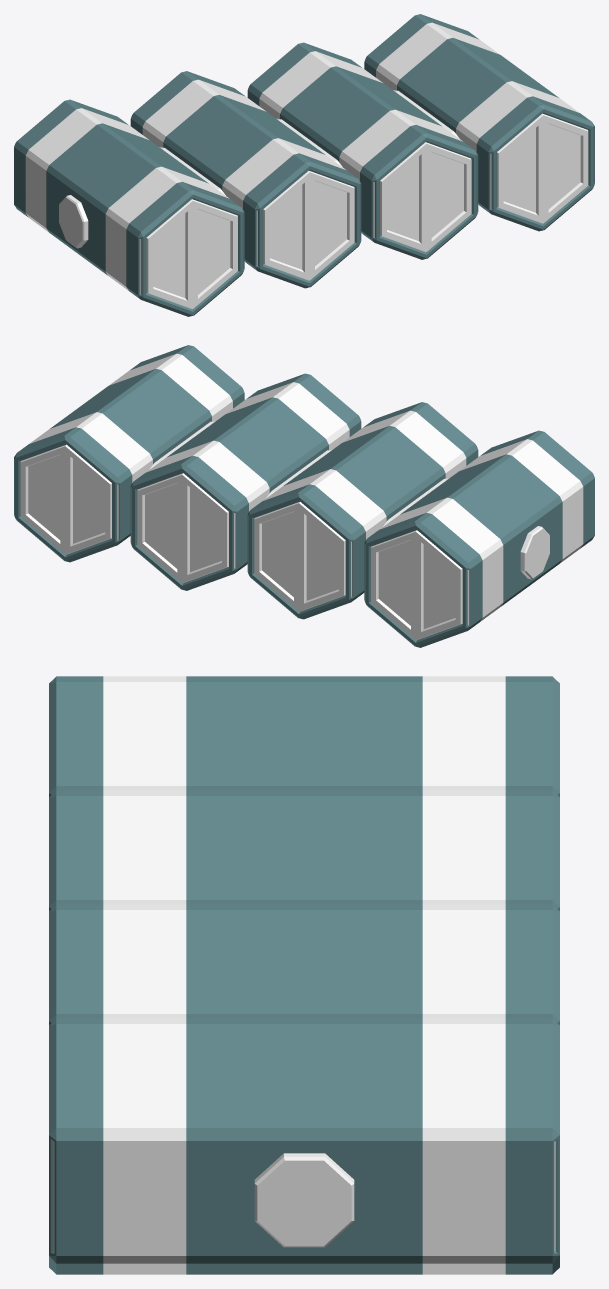
The model's file is ss_cargo3.glb.
The picture shows the model from 3 angles, top to bottom: view 1: azimuth 30°, elevation 25°; view 2: azimuth 150°, elevation 25°; view 3: azimuth 270°, elevation 25°; orthographic projection. The views are drawn at different scales.
Parts seen in each view (by area): view 1: Cylinder.001; view 2: Cylinder.001; view 3: Cylinder.001.
Boxes of the visible parts, x1,y1,x2,y2 form: Cylinder.001: (14, 14, 594, 316); Cylinder.001: (14, 345, 594, 647); Cylinder.001: (49, 676, 559, 1274).
Size of the model in its own units: 20 by 5.13 by 9.48.
